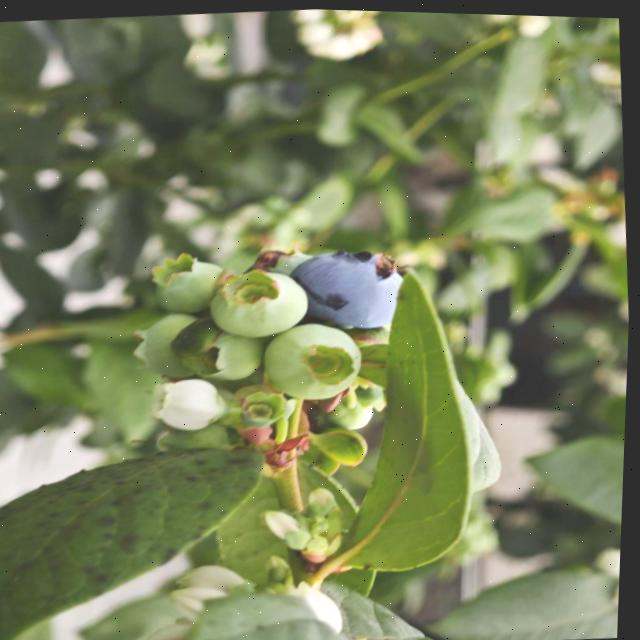RipeBlueBerry: (289, 242, 410, 331)
UnripeBlueBerry: (261, 319, 366, 402), (206, 262, 312, 339), (130, 308, 207, 379), (151, 252, 228, 314), (191, 324, 265, 381)
